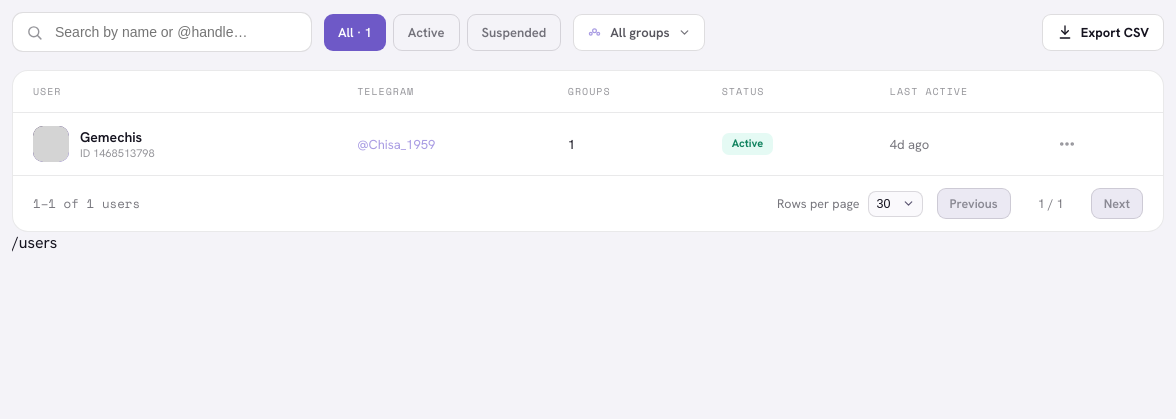
it: Users › shows memberships with net balances and a capitalized name
Click the text "Gemechis".
click(111, 137)  # box [80,128,142,146]
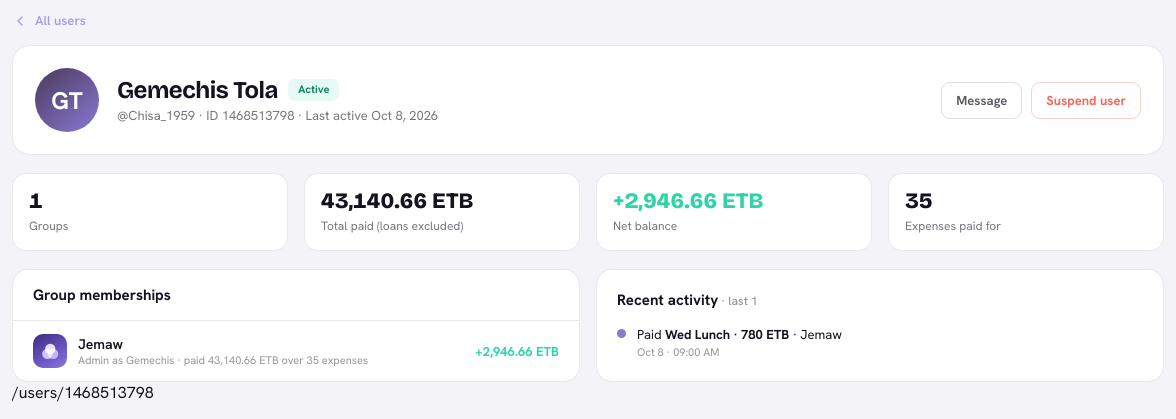
Expected: the heading "Gemechis Tola" is shown, [117,76,278,104]
Expected: the 1st text "+2,946.66 ETB" is shown, [613,188,764,214]
Expected: the text "43,140.66 ETB" is shown, [321,188,474,214]
